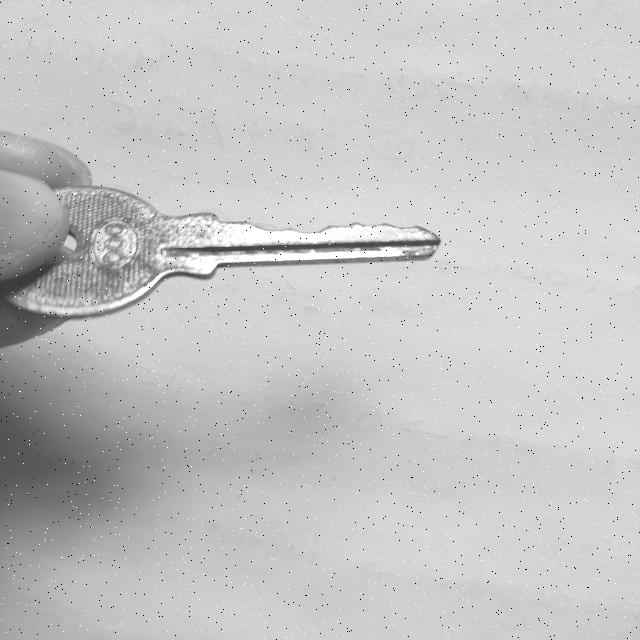key: (5, 185, 440, 318)
